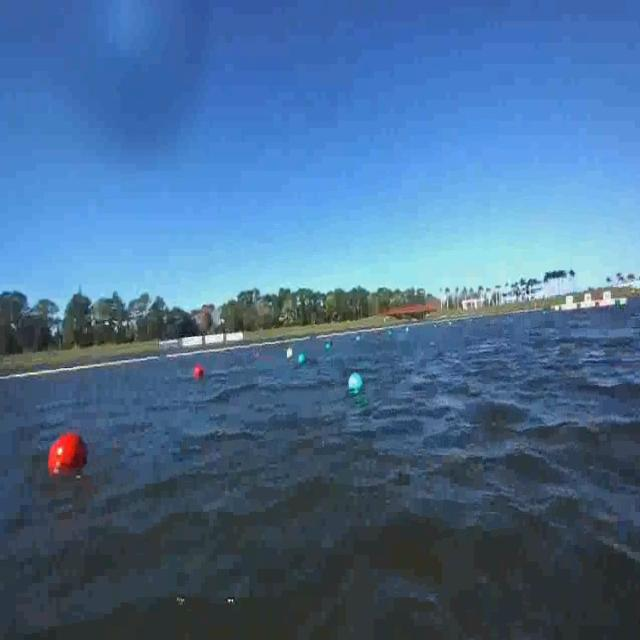green-buoy: (347, 369, 365, 394), (296, 353, 304, 364), (328, 343, 334, 353)
red-buoy: (48, 431, 91, 480), (196, 363, 206, 379)
